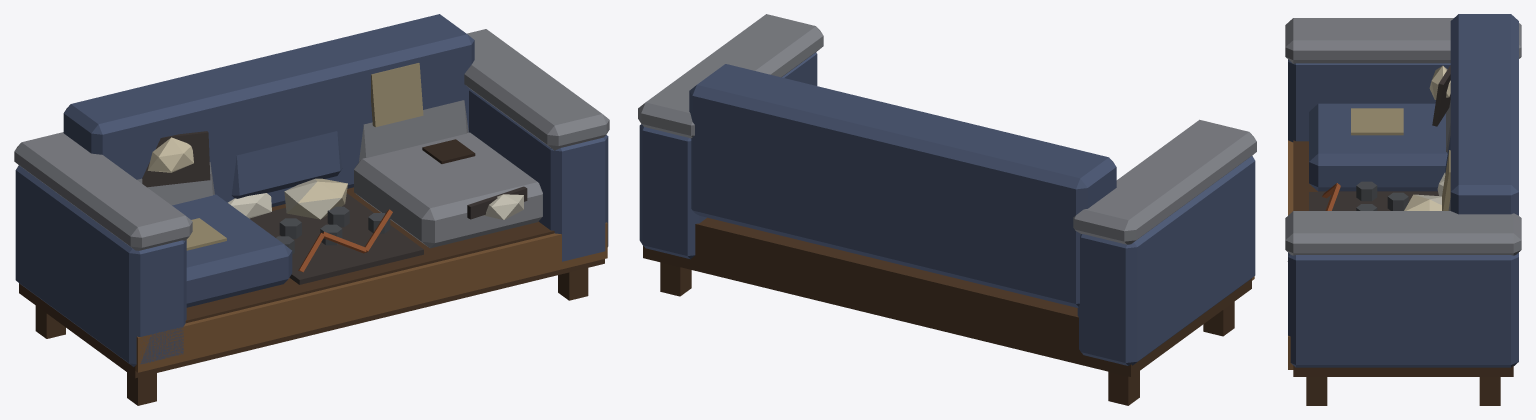
The model's file is furn_sofa.fbx.
3 renders of one model, left to right at view 1: azimuth 30°, elevation 25°; view 2: azimuth 150°, elevation 25°; view 3: azimuth 270°, elevation 25°, orthographic. The views are drawn at different scales.
Parts seen in each view (by area): view 1: furn_sofa; view 2: furn_sofa; view 3: furn_sofa.
Part boxes in pixels (x1,y1,x2,y2): furn_sofa: (14,14,609,405); furn_sofa: (638,14,1256,405); furn_sofa: (1285,14,1521,405).
Size of the model in its own units: 2 by 0.85 by 0.9.
